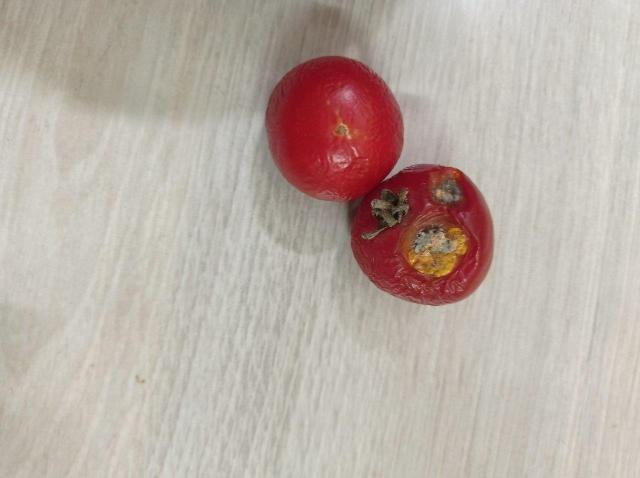defect: (257, 52, 413, 204), (357, 193, 518, 317)
